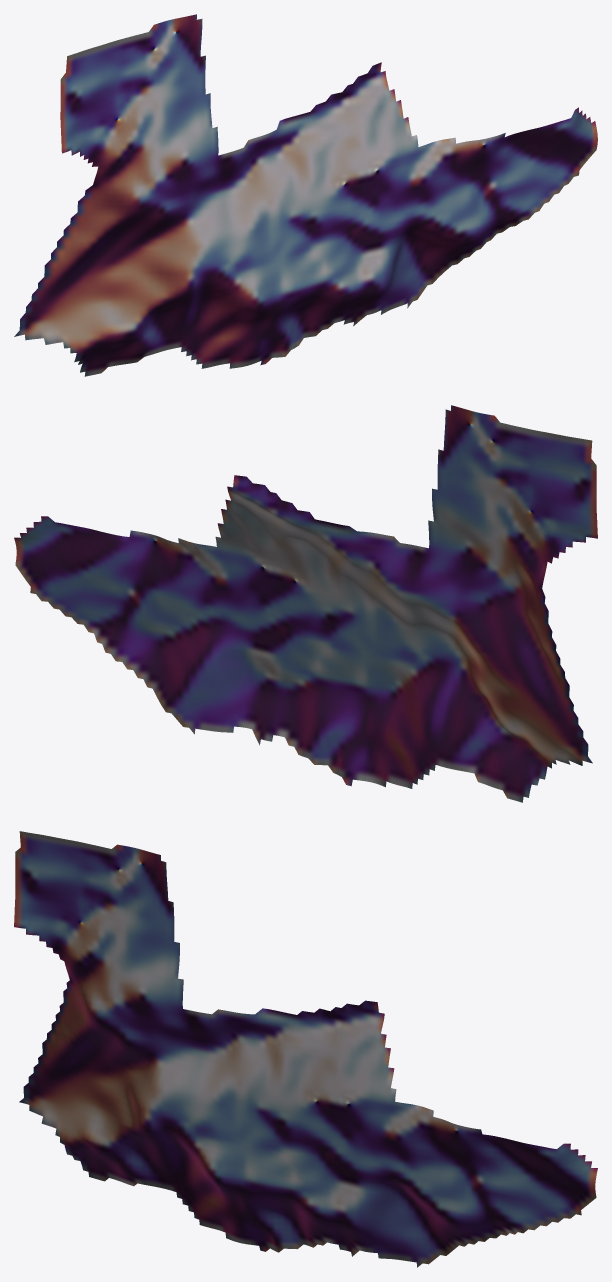
The model's file is tirumala_terrain_aspect.glb.
3 renders of one model, top to bottom at view 1: azimuth 30°, elevation 25°; view 2: azimuth 150°, elevation 25°; view 3: azimuth 330°, elevation 25°, orthographic.
Parts seen in each view (by area): view 1: Tirumala_Terrain_Mesh; view 2: Tirumala_Terrain_Mesh; view 3: Tirumala_Terrain_Mesh.
Part boxes in pixels (x1,y1,x2,y2): Tirumala_Terrain_Mesh: (14, 14, 597, 376); Tirumala_Terrain_Mesh: (14, 405, 597, 802); Tirumala_Terrain_Mesh: (14, 831, 597, 1267).
Bounding box in the file's own units: 8560 × 5440 × 719.
1 material, 1 textured.
